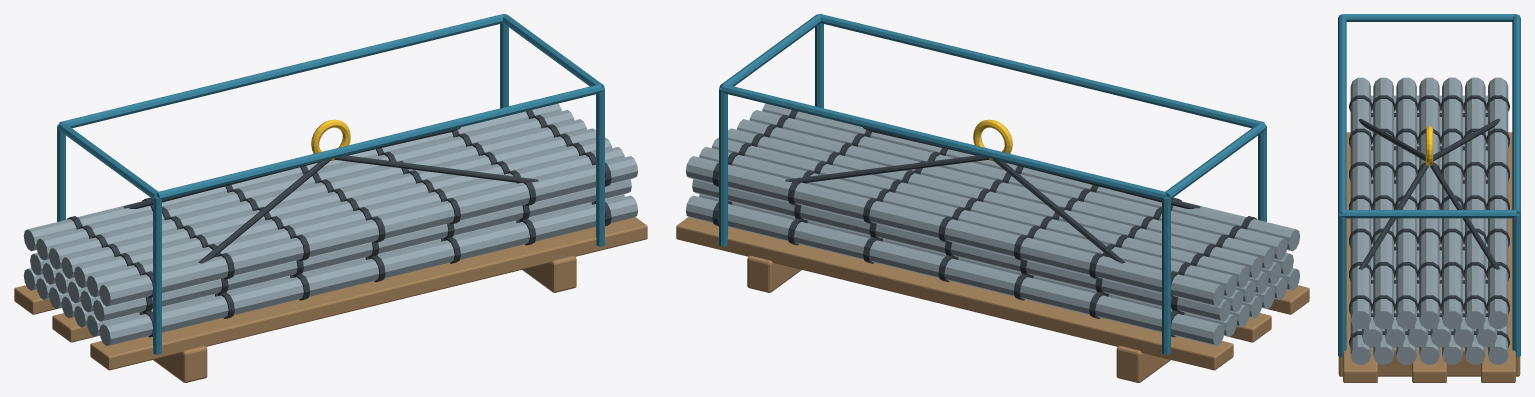
File: rebar-bundle-unit.glb
The picture shows the model from 3 angles, left to right: view 1: azimuth 30°, elevation 25°; view 2: azimuth 150°, elevation 25°; view 3: azimuth 270°, elevation 25°; orthographic projection. The views are drawn at different scales.
Visible parts, largest first — view 1: PalletDeck, Rebar, Rebar.013, Rebar.007, Rebar.018, Rebar.017, Rebar.016, Rebar.014, Rebar.015, LiftFrameRail, LiftFrameRail.001, Rebar.019 (+14 smaller); view 2: PalletDeck.002, Rebar.006, Rebar.019, Rebar.012, Rebar.014, Rebar.015, Rebar.016, Rebar.018, Rebar.017, LiftFrameRail.001, LiftFrameRail, Rebar.013 (+14 smaller); view 3: Rebar.013, Rebar.019, Rebar.014, Rebar.018, Rebar.015, Rebar.017, Rebar.016, PalletDeck, PalletDeck.002, LiftFrameRail, LiftFrameRail.001, LiftFrameTop.001 (+23 smaller).
Boxes of the visible parts, box(x1,y1,x2,y2) form: PalletDeck: box(90, 217, 647, 370); Rebar: box(99, 195, 638, 345); Rebar.013: box(99, 156, 638, 306); Rebar.007: box(93, 179, 631, 321); Rebar.018: box(36, 110, 574, 260); Rebar.017: box(49, 119, 586, 269); Rebar.016: box(61, 128, 595, 278); Rebar.014: box(87, 147, 624, 297); Rebar.015: box(74, 137, 612, 288); LiftFrameRail: box(157, 84, 602, 199); LiftFrameRail.001: box(59, 14, 504, 128); Rebar.019: box(23, 103, 561, 251); PalletDeck.002: box(676, 217, 1233, 370); Rebar.006: box(685, 195, 1224, 345); Rebar.019: box(685, 156, 1224, 306); Rebar.012: box(692, 179, 1230, 321); Rebar.014: box(749, 110, 1287, 260); Rebar.015: box(737, 119, 1274, 269); Rebar.016: box(728, 128, 1262, 278); Rebar.018: box(699, 147, 1236, 297); Rebar.017: box(711, 137, 1249, 288); LiftFrameRail.001: box(721, 84, 1166, 199); LiftFrameRail: box(819, 14, 1264, 128); Rebar.013: box(762, 103, 1300, 251); Rebar.013: box(1350, 77, 1370, 328); Rebar.019: box(1488, 77, 1508, 328); Rebar.014: box(1373, 77, 1393, 328); Rebar.018: box(1465, 77, 1485, 328); Rebar.015: box(1396, 77, 1416, 328); Rebar.017: box(1442, 77, 1462, 328); Rebar.016: box(1419, 77, 1439, 328); PalletDeck: box(1343, 132, 1377, 382); PalletDeck.002: box(1481, 132, 1515, 382); LiftFrameRail: box(1338, 14, 1346, 214); LiftFrameRail.001: box(1512, 14, 1520, 214); LiftFrameTop.001: box(1342, 210, 1516, 218).
Bounding box in the file's own units: 3.58 × 1.25 × 1.16.
